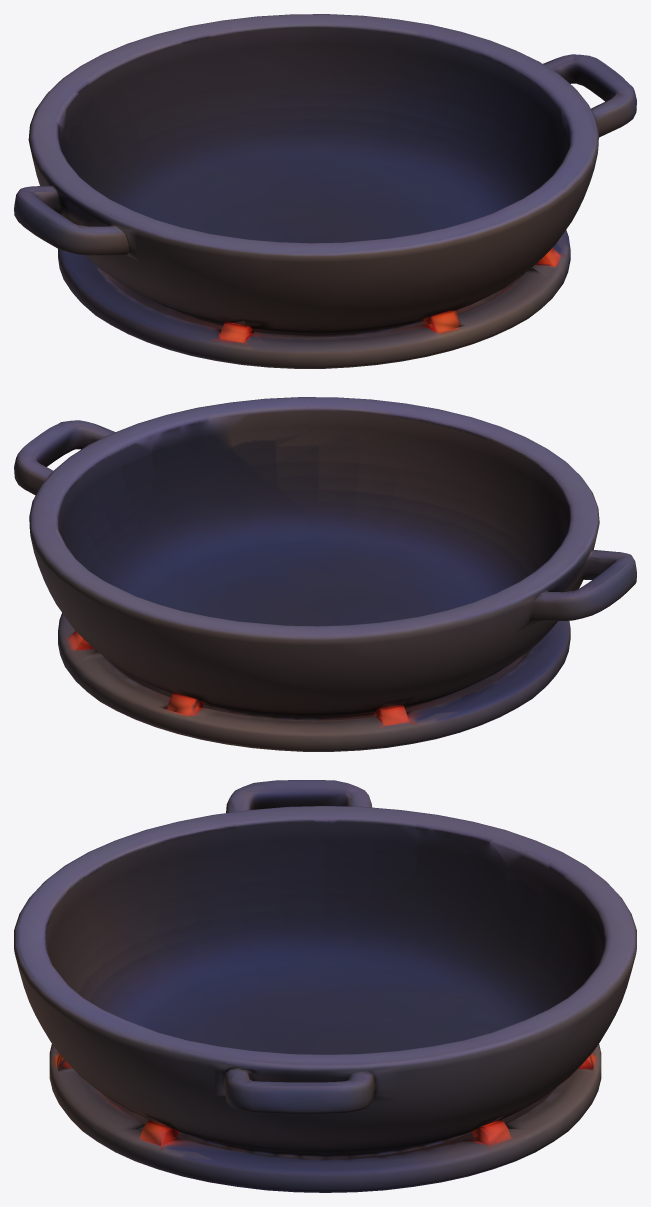
The picture shows the model from 3 angles, top to bottom: view 1: azimuth 30°, elevation 25°; view 2: azimuth 150°, elevation 25°; view 3: azimuth 270°, elevation 25°; orthographic projection. The views are drawn at different scales.
Parts seen in each view (by area): view 1: mesh_input; view 2: mesh_input; view 3: mesh_input.
Part boxes in pixels (bbox=[...]): mesh_input: bbox=[14, 14, 636, 368]; mesh_input: bbox=[14, 397, 636, 751]; mesh_input: bbox=[14, 780, 636, 1192].
Bounding box in the file's own units: 190 × 42.58 × 160.
Materials: 1 (1 with a texture image).
